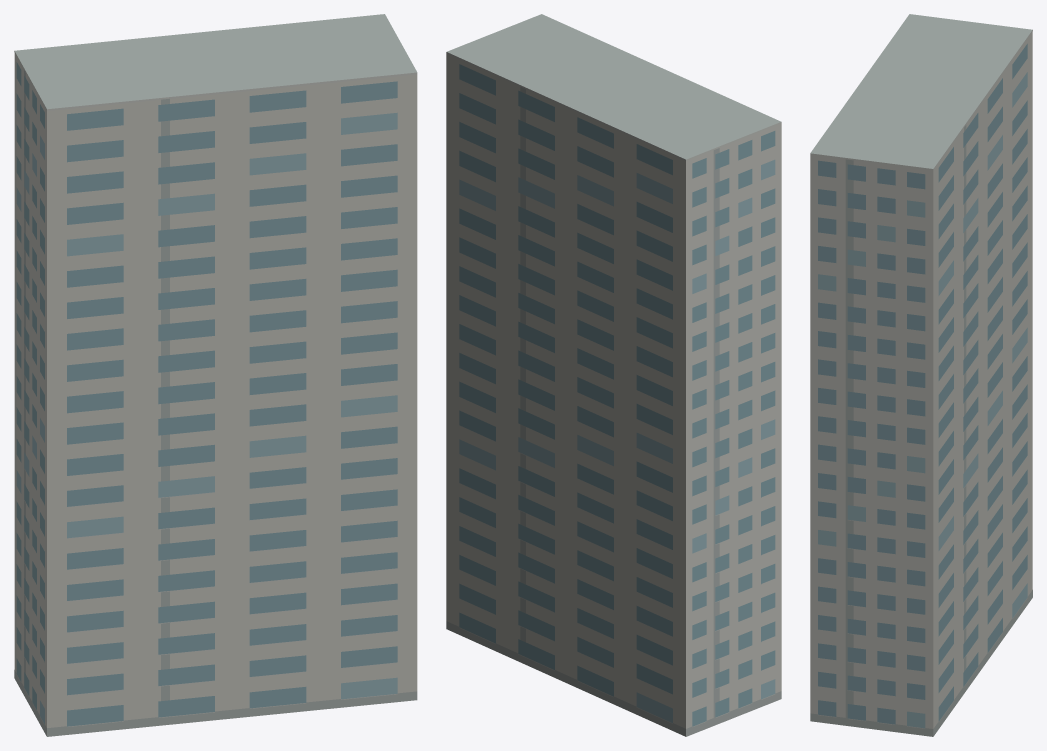
The model's file is residential-615fcf71-d7dc-4ff5-b04f-0b7d62aafe98.glb.
3 views of the same model, side by side, from view 1: azimuth 30°, elevation 25°; view 2: azimuth 150°, elevation 25°; view 3: azimuth 270°, elevation 25° (orthographic). The views are drawn at different scales.
Parts seen in each view (by area): view 1: residential-615fcf71-d7dc-4ff5-b04f-0b7d62aafe98.tmp; view 2: residential-615fcf71-d7dc-4ff5-b04f-0b7d62aafe98.tmp; view 3: residential-615fcf71-d7dc-4ff5-b04f-0b7d62aafe98.tmp.
Part boxes in pixels (x1,y1,x2,y2): residential-615fcf71-d7dc-4ff5-b04f-0b7d62aafe98.tmp: (14, 14, 417, 736); residential-615fcf71-d7dc-4ff5-b04f-0b7d62aafe98.tmp: (446, 14, 781, 736); residential-615fcf71-d7dc-4ff5-b04f-0b7d62aafe98.tmp: (810, 14, 1032, 736).
Bounding box in the file's own units: 53.28 × 91 × 32.34.
